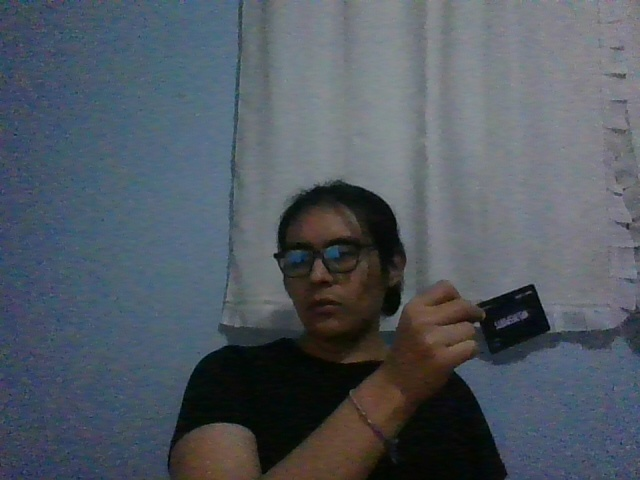tarjeta: (475, 283, 550, 354)
